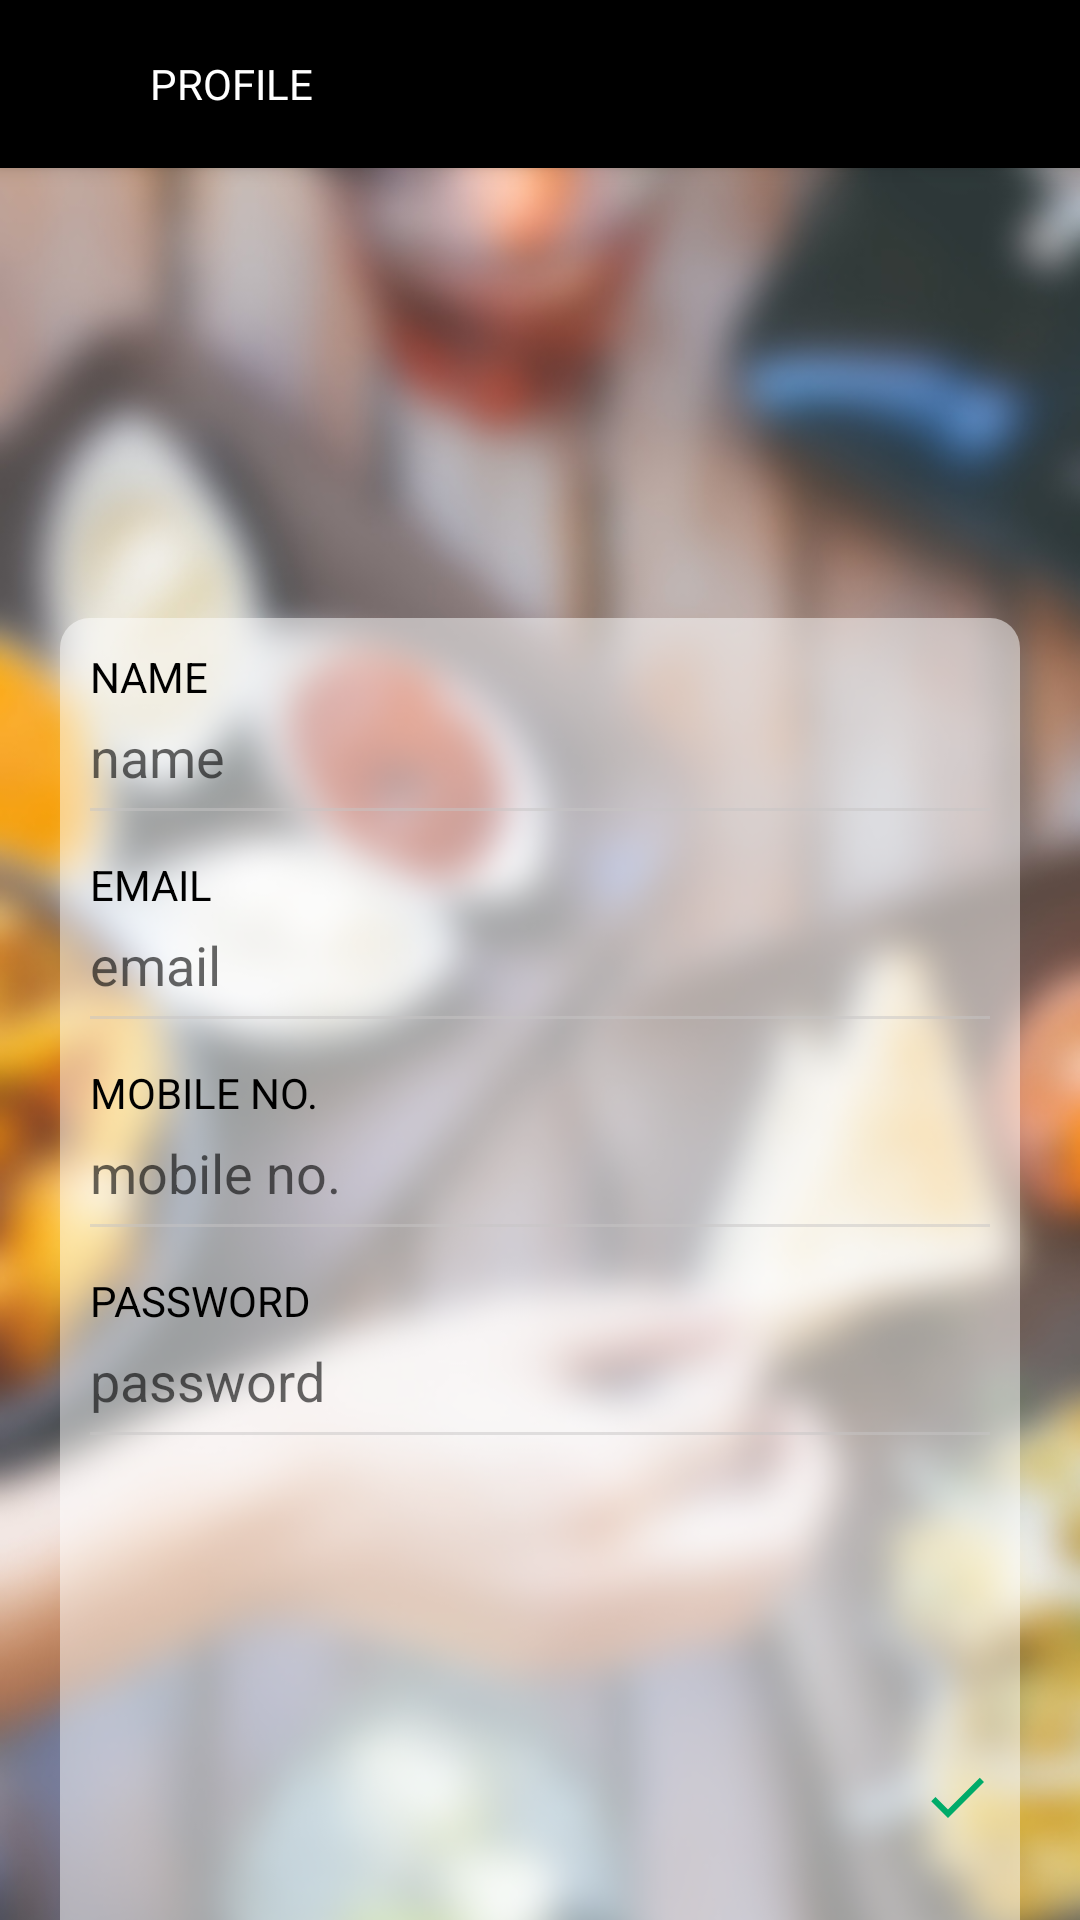

Icons on this 1080×1920 Android screen, each with the point to tap as [x,y]:
check: [957,1797]
